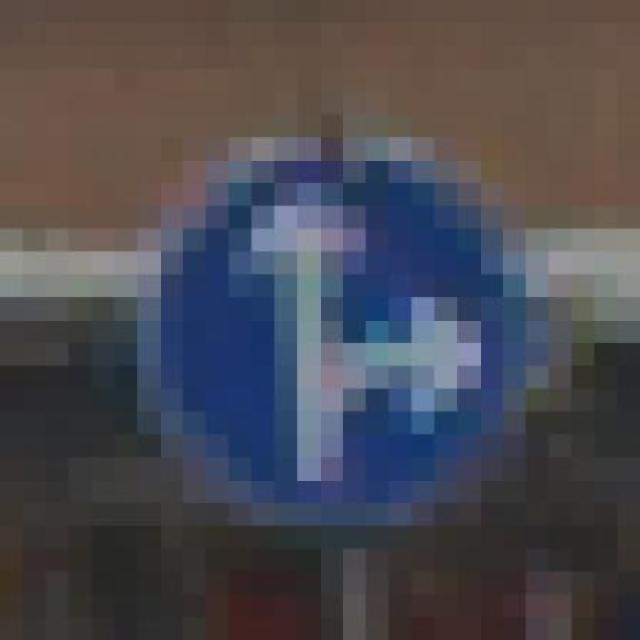Go Straight or Turn Right: (137, 91, 549, 548)
